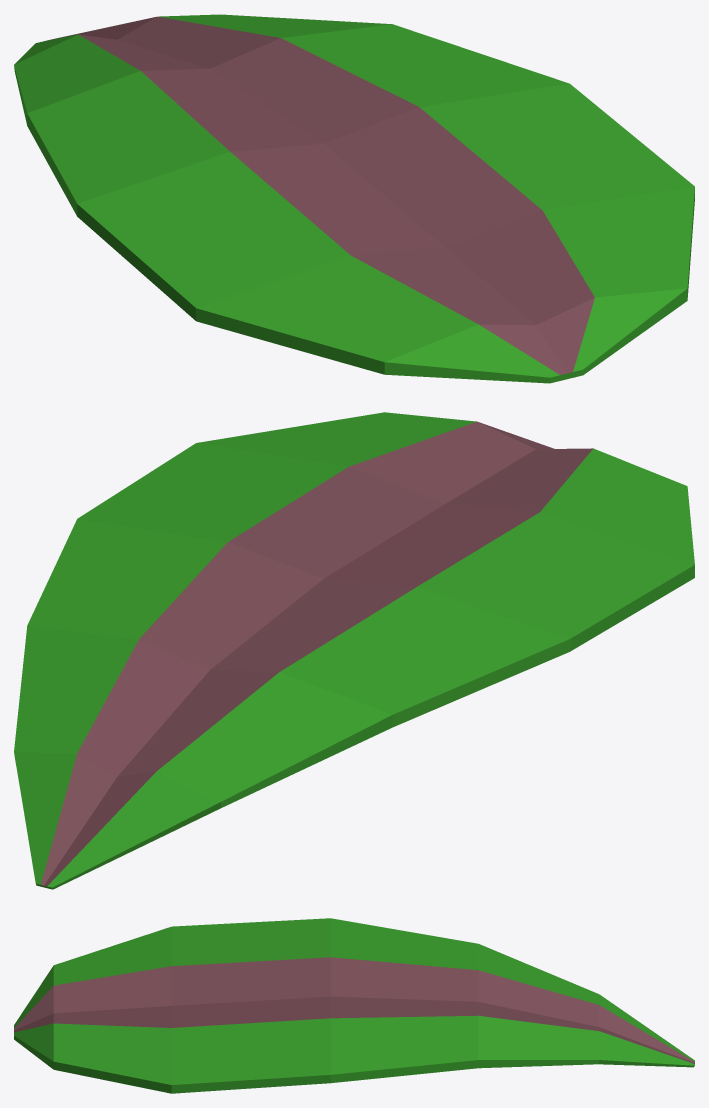
Rendered from Hoja Grande.fbx.
The picture shows the model from 3 angles, top to bottom: view 1: azimuth 30°, elevation 25°; view 2: azimuth 150°, elevation 25°; view 3: azimuth 270°, elevation 25°; orthographic projection. The views are drawn at different scales.
Parts seen in each view (by area): view 1: Hoja Gigante; view 2: Hoja Gigante; view 3: Hoja Gigante.
Boxes of the visible parts, x1=… form: Hoja Gigante: x1=14, y1=14, x2=694, y2=383; Hoja Gigante: x1=14, y1=412, x2=694, y2=889; Hoja Gigante: x1=14, y1=918, x2=694, y2=1093.
Size of the model in its own units: 595 by 136 by 1080.
